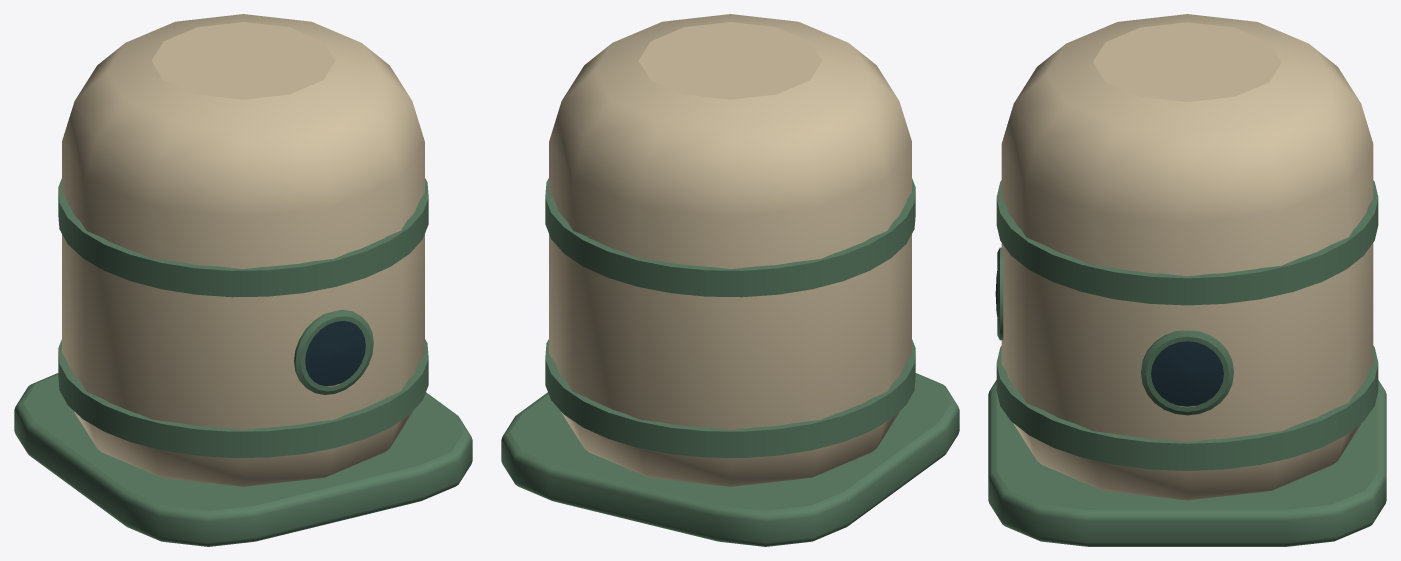
The model's file is t200_water.obj.
3 views of the same model, side by side, from view 1: azimuth 30°, elevation 25°; view 2: azimuth 150°, elevation 25°; view 3: azimuth 270°, elevation 25° (orthographic). The views are drawn at different scales.
Visible parts, largest first — view 1: t200_water; view 2: t200_water; view 3: t200_water.
Part boxes in pixels (x1,y1,x2,y2): t200_water: (14,14,472,546); t200_water: (501,14,959,546); t200_water: (988,14,1386,546).
Bounding box in the file's own units: 2.4 × 2.68 × 2.4.
